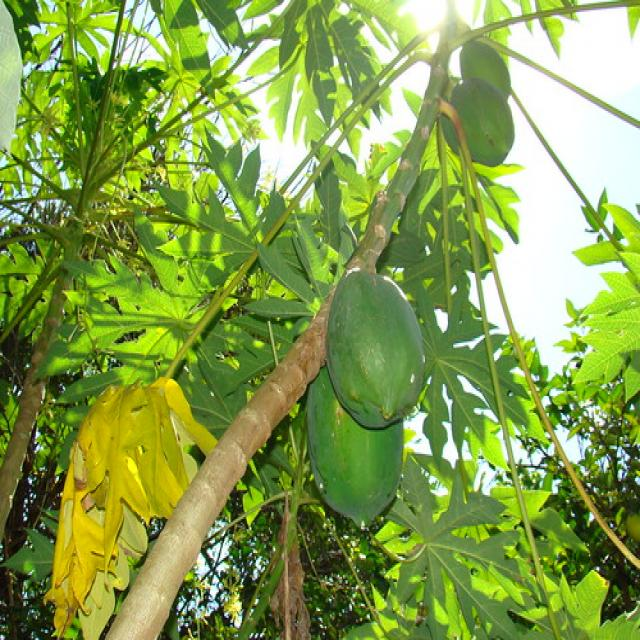Pepaya unrippen: (293, 376, 421, 528), (322, 260, 432, 433), (446, 82, 520, 177), (457, 32, 508, 101)
